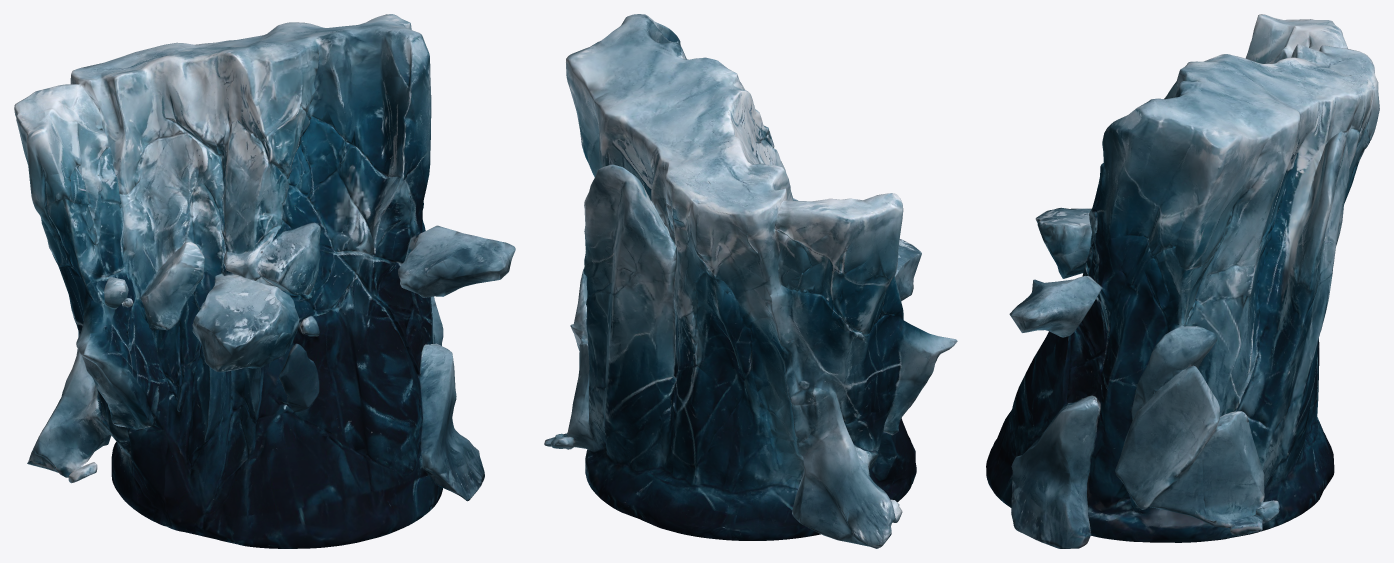
Rendered from ice_serac.glb.
The picture shows the model from 3 angles, left to right: view 1: azimuth 30°, elevation 25°; view 2: azimuth 150°, elevation 25°; view 3: azimuth 270°, elevation 25°; orthographic projection.
Parts seen in each view (by area): view 1: ice_serac; view 2: ice_serac; view 3: ice_serac.
Part boxes in pixels (x1,y1,x2,y2): ice_serac: [14, 14, 515, 548]; ice_serac: [544, 14, 957, 548]; ice_serac: [986, 14, 1379, 548].
Size of the model in its own units: 1.75 by 1.9 by 1.58.
Materials: 1 (1 with a texture image).
